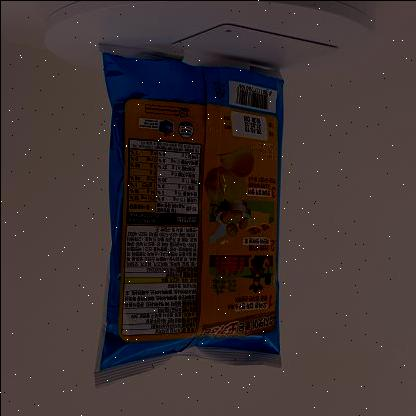Others: (69, 29, 296, 394)
